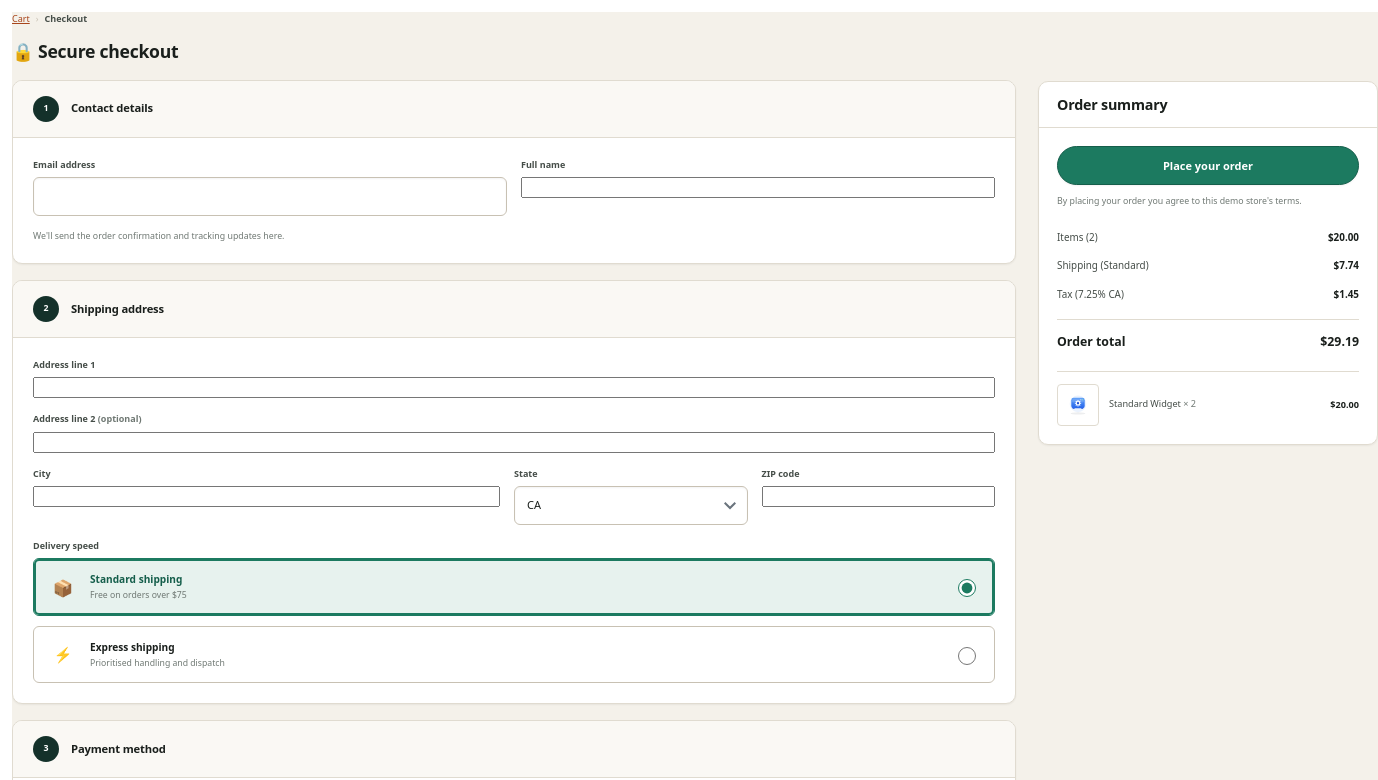
Scenario: CheckoutPage › re-quotes when the destination state changes
This screenshot has width=1378, height=780.
expect the text "$29.19" is shown: met, box [1320,333,1359,351]
Step 1. Select "OR" in the dropdown labelled "State" → [631, 506], box [514,486,748,525]
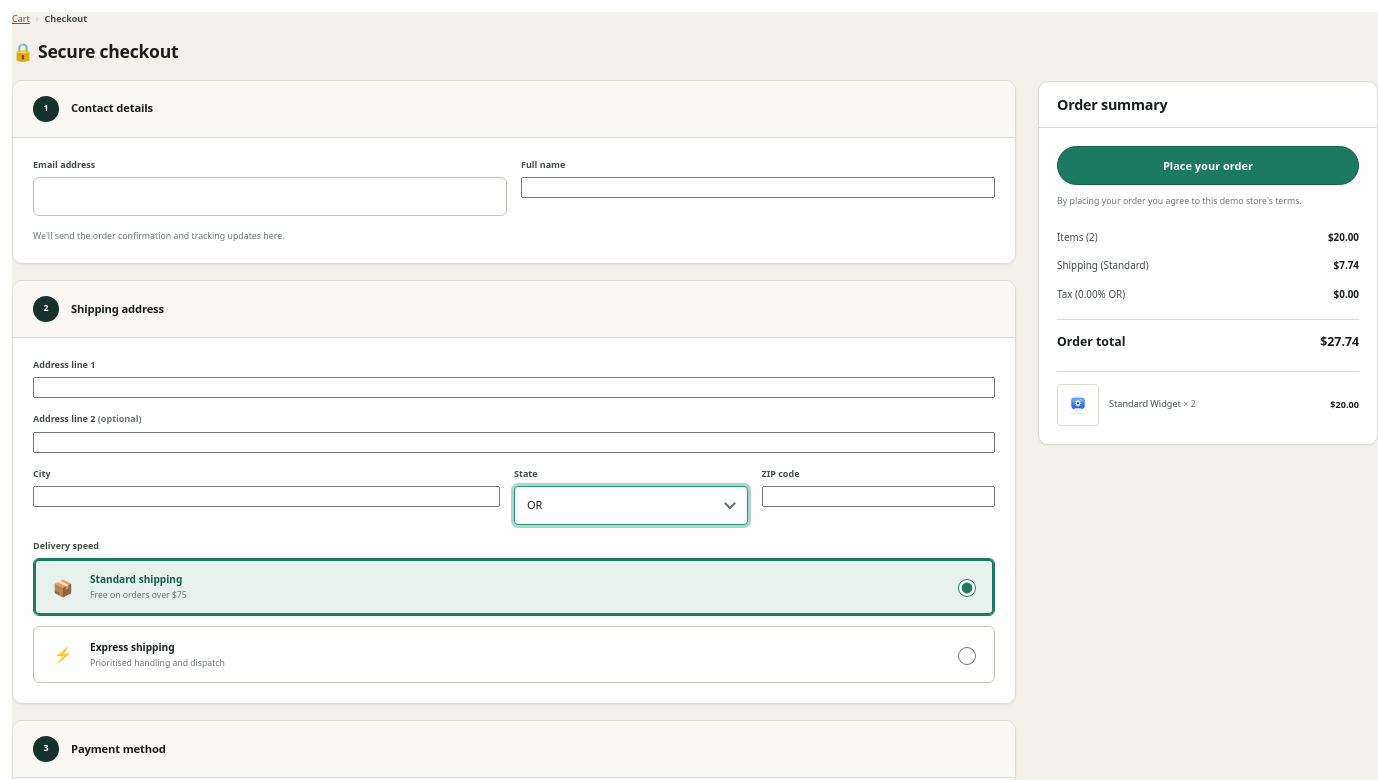
expect the text "$27.74" is shown: met, box [1320,333,1359,351]
